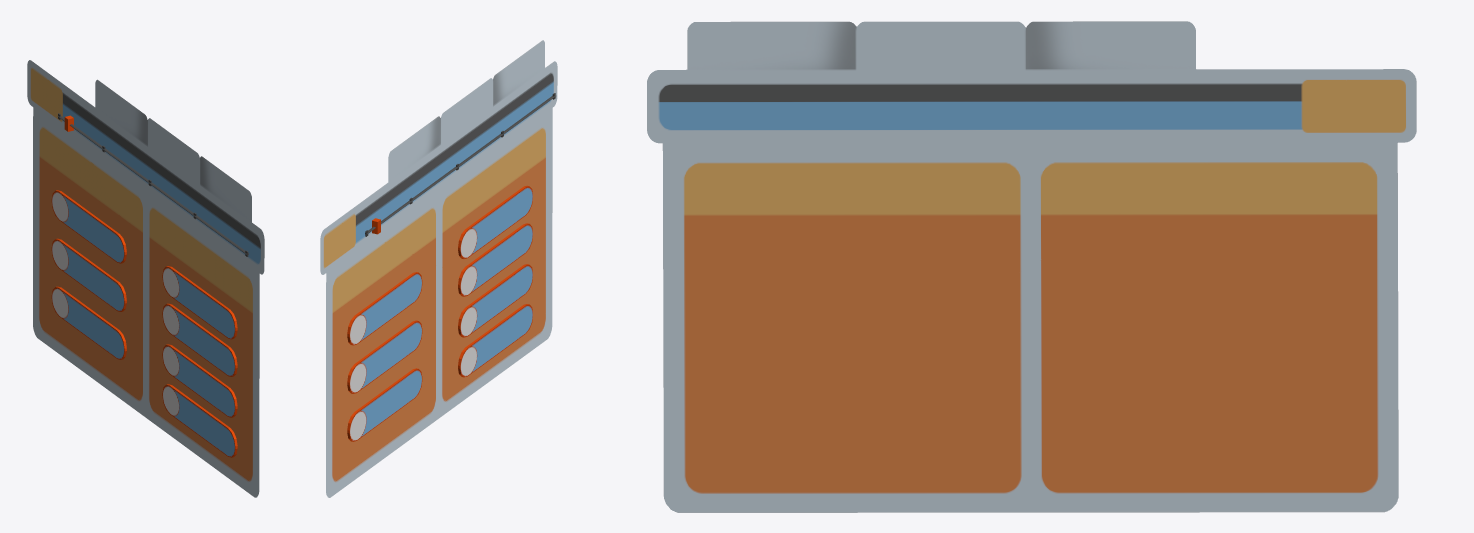
File: Control_Panel_V3.fbx
3 renders of one model, left to right at view 1: azimuth 30°, elevation 25°; view 2: azimuth 150°, elevation 25°; view 3: azimuth 270°, elevation 25°, orthographic. The views are drawn at different scales.
Parts seen in each view (by area): view 1: naked_menu, Blue_button_5, Blue_button_6, Blue_button_2, flat_round_button_blue_2, Blue_button_7, flat_round_button_blue_1, Blue_button_3, time_bar; view 2: naked_menu, flat_round_button_blue_1, Blue_button_3, Blue_button_2, Blue_button_5, Blue_button_6, flat_round_button_blue_2, Blue_button_7, time_bar; view 3: naked_menu.
Part boxes in pixels (left/top/right/bottom): naked_menu: left=27, top=60, right=264, bottom=497; Blue_button_5: left=162, top=303, right=237, bottom=376; Blue_button_6: left=162, top=344, right=237, bottom=417; Blue_button_2: left=51, top=238, right=126, bottom=311; flat_round_button_blue_2: left=162, top=266, right=237, bottom=339; Blue_button_7: left=162, top=384, right=237, bottom=457; flat_round_button_blue_1: left=51, top=190, right=126, bottom=263; Blue_button_3: left=51, top=286, right=126, bottom=359; time_bar: left=58, top=116, right=248, bottom=254; naked_menu: left=320, top=40, right=557, bottom=497; flat_round_button_blue_1: left=347, top=272, right=422, bottom=345; Blue_button_3: left=347, top=368, right=422, bottom=441; Blue_button_2: left=347, top=320, right=422, bottom=393; Blue_button_5: left=458, top=223, right=532, bottom=296; Blue_button_6: left=458, top=264, right=532, bottom=337; flat_round_button_blue_2: left=458, top=185, right=532, bottom=258; Blue_button_7: left=458, top=304, right=532, bottom=377; time_bar: left=365, top=95, right=555, bottom=234; naked_menu: left=647, top=21, right=1416, bottom=512.
Bounding box in the file's own units: 0.3978 × 11.8 × 18.19.
